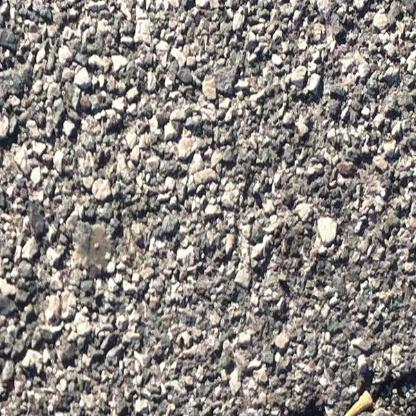Cracks: (365, 371, 416, 416), (242, 400, 340, 416)
